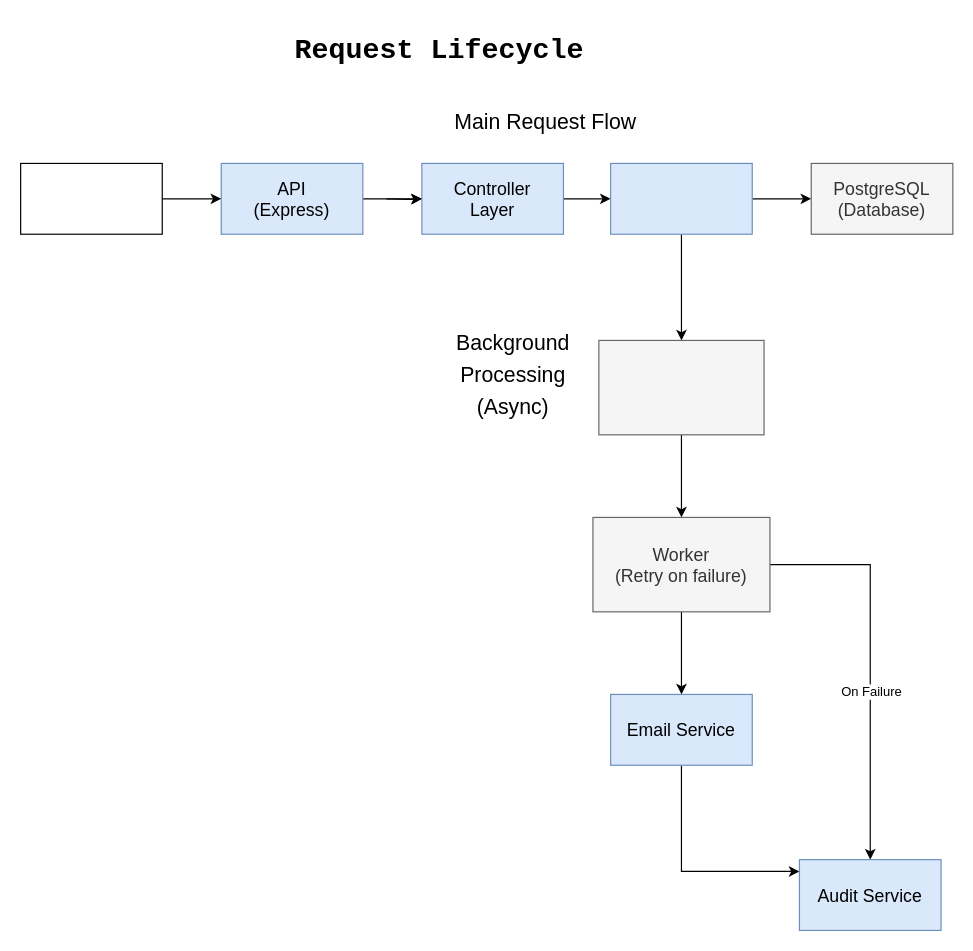
The diagram is 973 pixels wide and 951 high, and some of its shapes have lost their labels. The shapes that lost their labels are listed below. From the top down, each one's centre as x and y in pixels, then its label:
At (90,198): "Client".
At (680,198): "Service Layer".
At (681,387): "Email Queue (Redis + BullMQ)".
